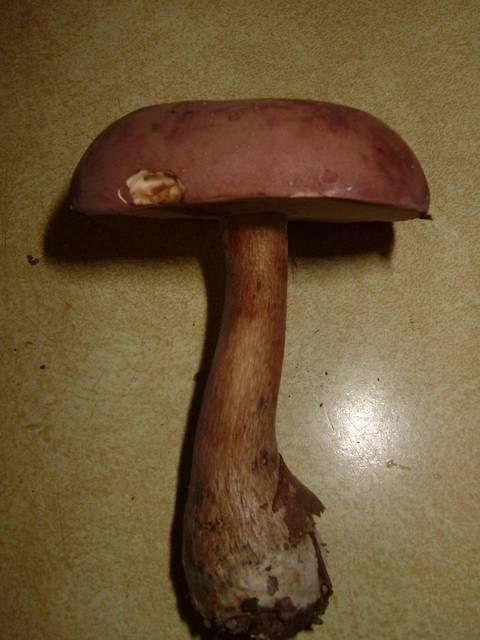Non-edible Mushroom: (66, 95, 432, 639)
